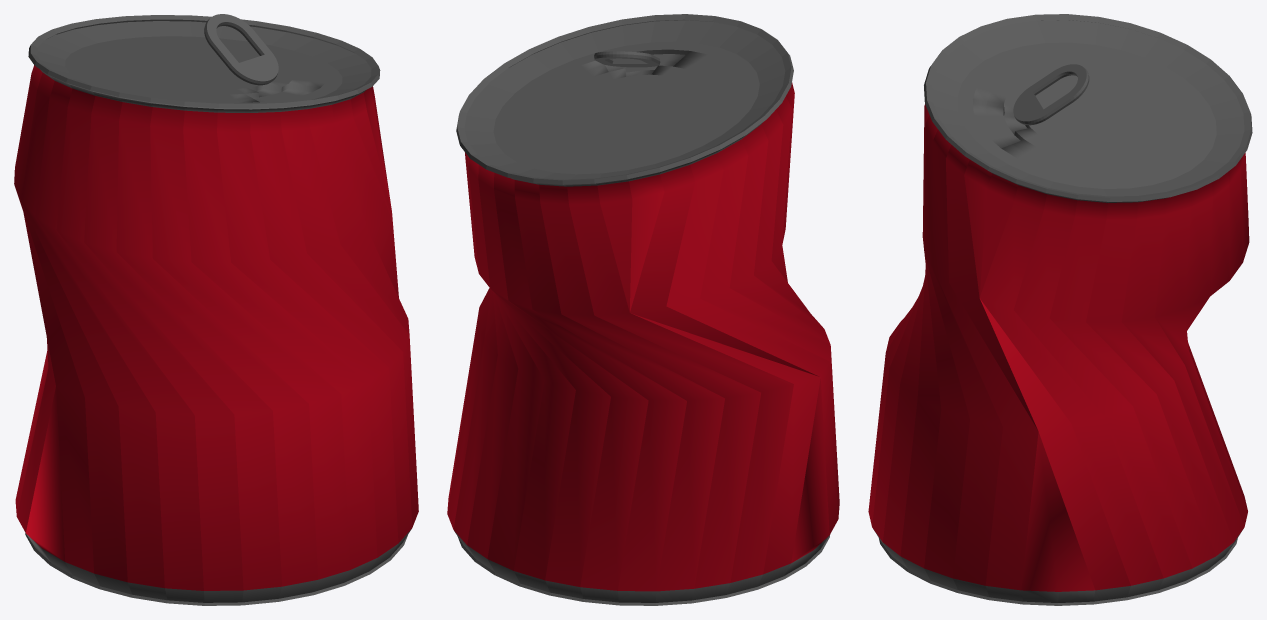
The model's file is Lata_Amassada.fbx.
3 views of the same model, side by side, from view 1: azimuth 30°, elevation 25°; view 2: azimuth 150°, elevation 25°; view 3: azimuth 270°, elevation 25° (orthographic). The views are drawn at different scales.
Parts seen in each view (by area): view 1: Cilindro; view 2: Cilindro; view 3: Cilindro.
Boxes of the visible parts, x1,y1,x2,y2 form: Cilindro: (14,14,418,605); Cilindro: (447,14,839,605); Cilindro: (868,14,1252,605).
Size of the model in its own units: 162 by 220 by 164.
